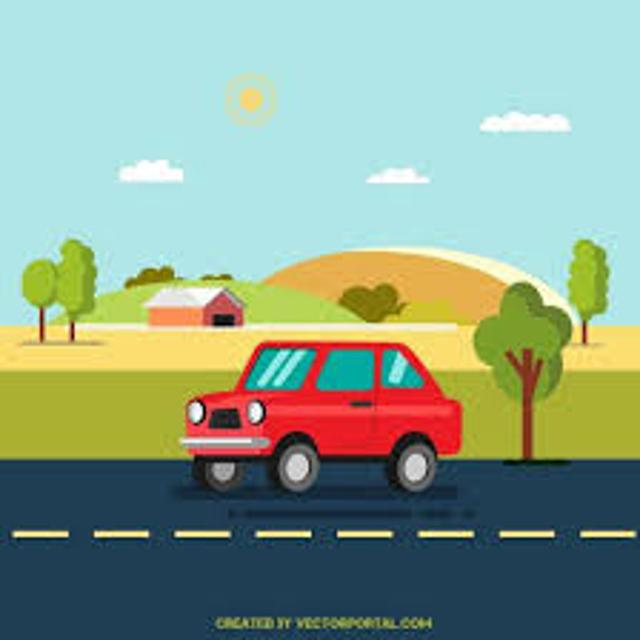car: (183, 341, 462, 492)
